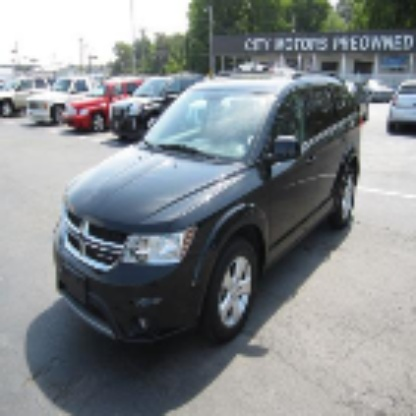Vehicle: (52, 77, 361, 349)
